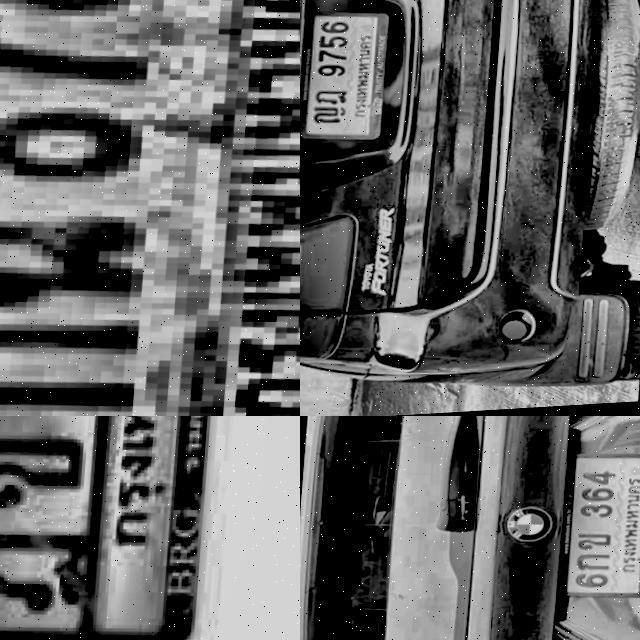license-plate: (0, 0, 300, 416), (0, 416, 252, 640), (556, 448, 640, 606), (300, 10, 393, 146)
